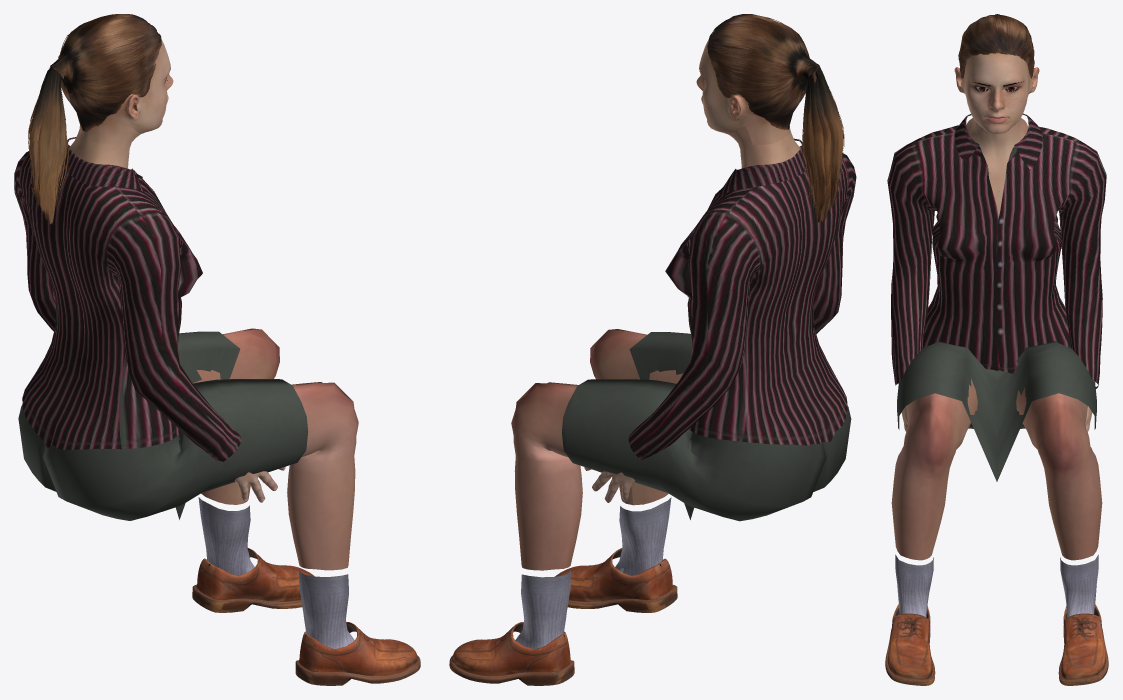
Rendered from talent-female-sitting.glb.
3 renders of one model, left to right at view 1: azimuth 30°, elevation 25°; view 2: azimuth 150°, elevation 25°; view 3: azimuth 270°, elevation 25°, orthographic. The views are drawn at different scales.
Parts seen in each view (by area): view 1: female_elegantsuit01, body, shoes01, ponytail01; view 2: female_elegantsuit01, body, shoes01, ponytail01; view 3: female_elegantsuit01, body, shoes01, ponytail01.
Boxes of the visible parts, x1=… form: female_elegantsuit01: x1=14, y1=137, x2=308, y2=520; body: x1=69, y1=39, x2=358, y2=570; shoes01: x1=192, y1=497, x2=420, y2=685; ponytail01: x1=28, y1=14, x2=161, y2=224; female_elegantsuit01: x1=562, y1=138, x2=856, y2=521; body: x1=511, y1=39, x2=803, y2=570; shoes01: x1=449, y1=497, x2=677, y2=685; ponytail01: x1=707, y1=14, x2=844, y2=222; female_elegantsuit01: x1=887, y1=113, x2=1106, y2=481; body: x1=891, y1=52, x2=1102, y2=560; shoes01: x1=885, y1=554, x2=1108, y2=685; ponytail01: x1=958, y1=14, x2=1034, y2=78.
Size of the model in its own units: 0.6523 by 1.23 by 0.4409.
Materials: 7 (7 with a texture image).
